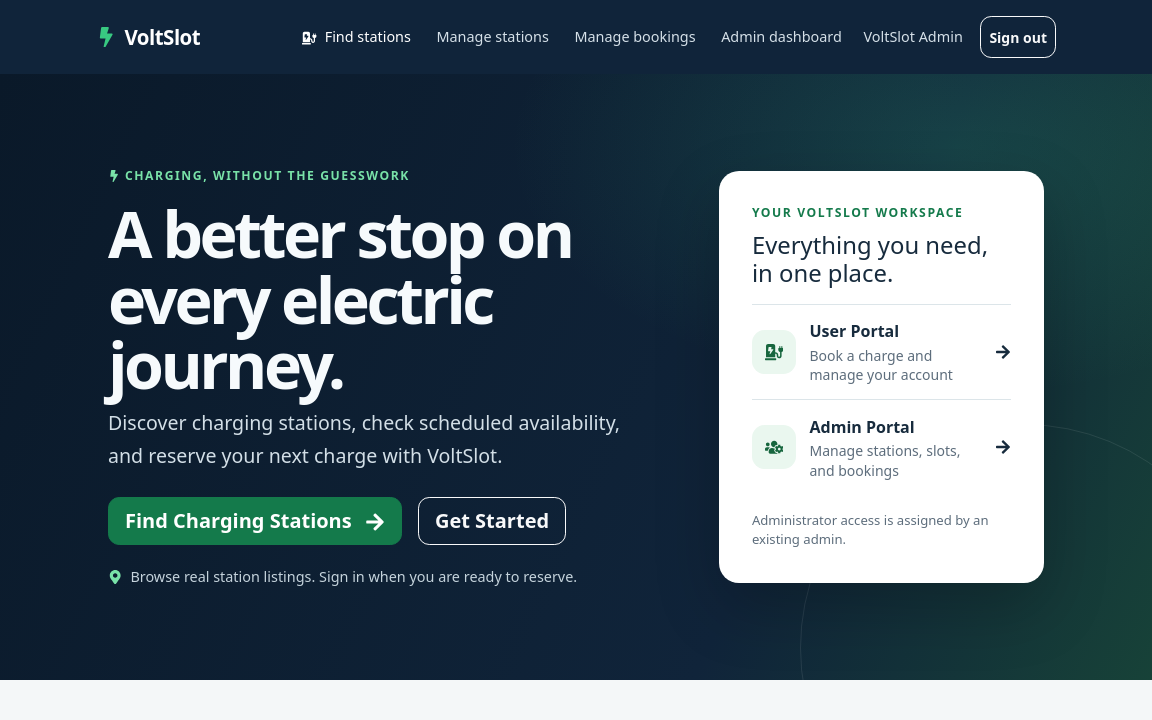
it: VoltSlot station frontend › shows admin tools only after the existing auth endpoint verifies the admin
The image size is (1152, 720).
Click the link "Manage stations".
click(493, 37)  # box [436,27,549,46]
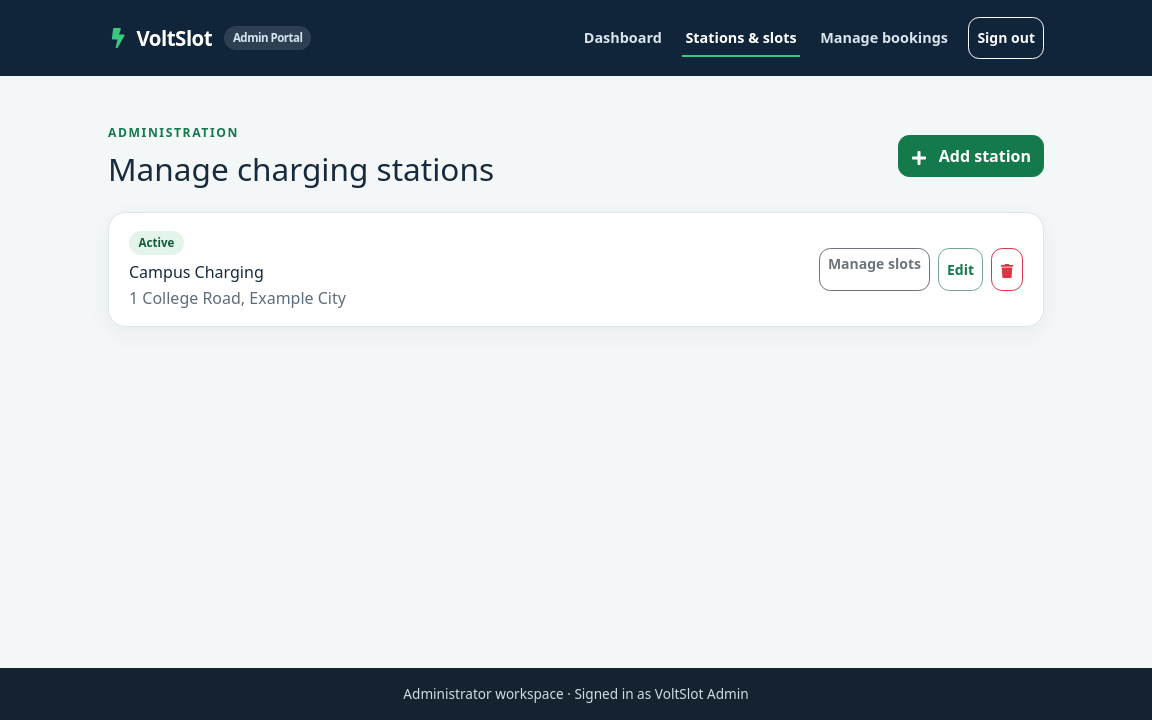
expect the heading "Manage charging stations" is shown: met, box [108,150,494,188]
expect the button "Add station" is shown: met, box [898,135,1044,177]
